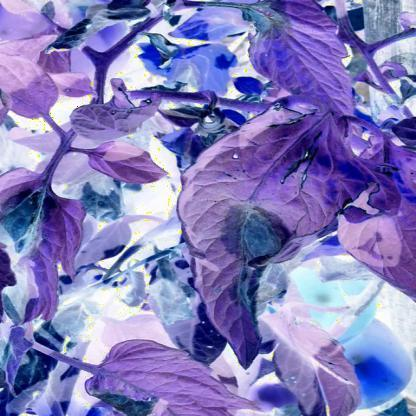Tomato leaf mosaic virus: (183, 90, 363, 368), (68, 338, 274, 416), (232, 3, 360, 125), (1, 160, 80, 323)
